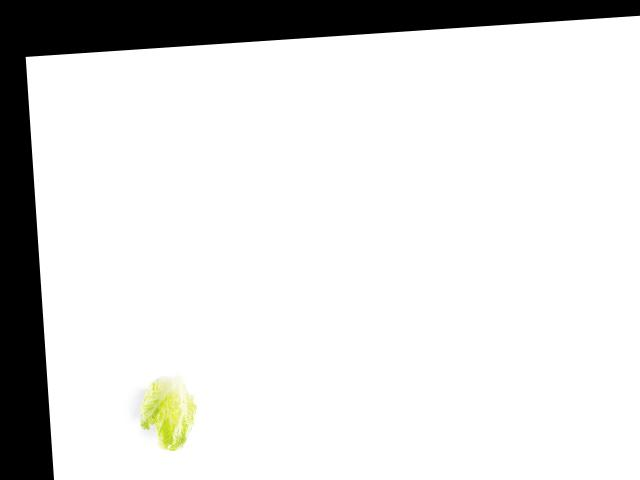lettuce: (135, 366, 202, 457)
